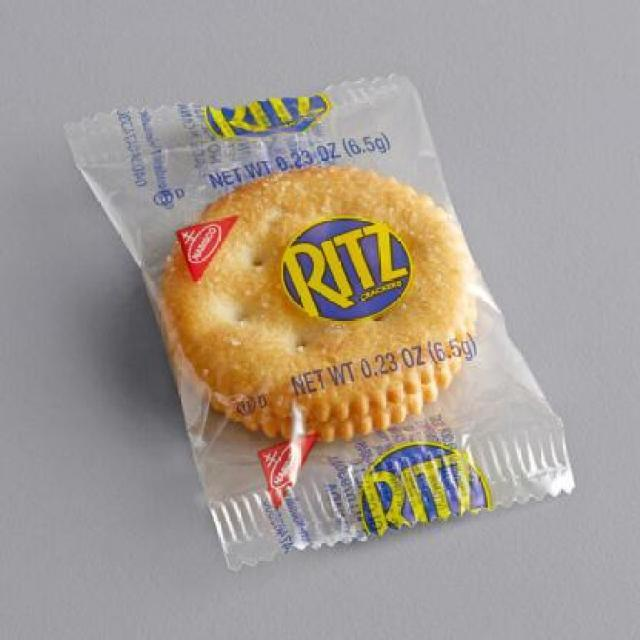Ritz cracker: (70, 76, 578, 544)
